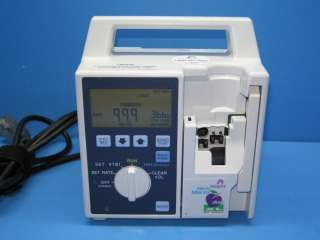plumxl1: (75, 13, 269, 226)
